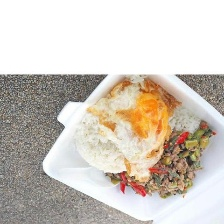foam_box: (37, 74, 223, 224)
